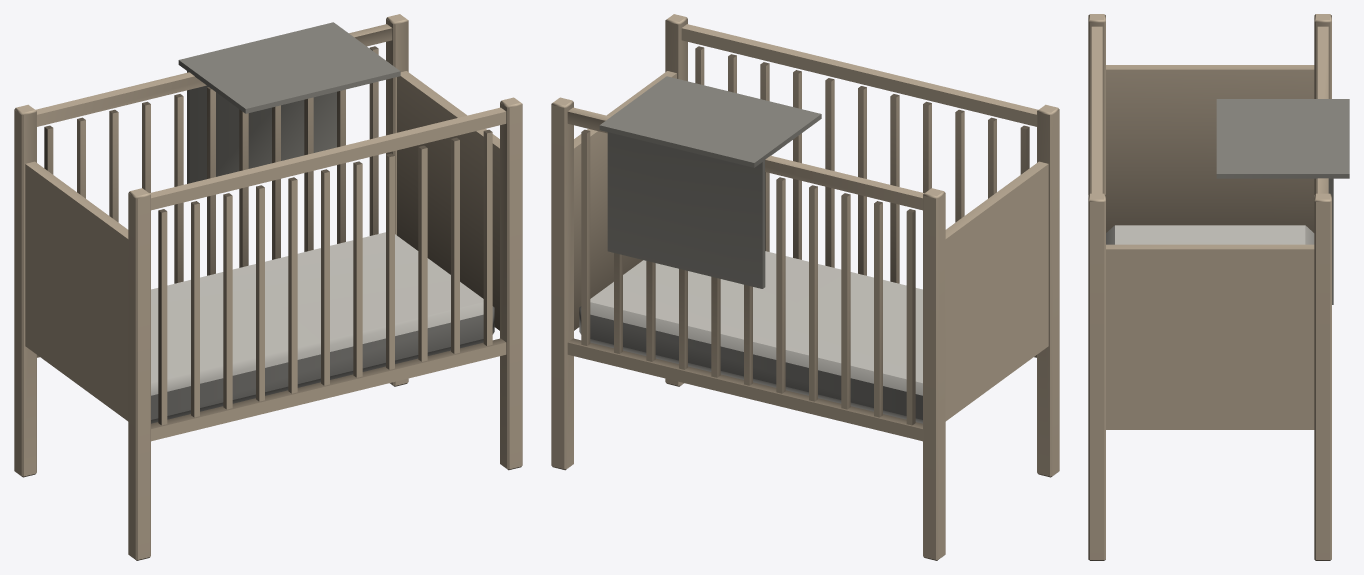
File: cot.glb
3 views of the same model, side by side, from view 1: azimuth 30°, elevation 25°; view 2: azimuth 150°, elevation 25°; view 3: azimuth 270°, elevation 25° (orthographic).
Parts seen in each view (by area): view 1: static; view 2: static; view 3: static.
Part boxes in pixels (x1,y1,x2,y2): static: (14, 14, 522, 560); static: (551, 14, 1059, 560); static: (1088, 14, 1349, 560).
Size of the model in its own units: 1 by 0.9 by 0.59.
